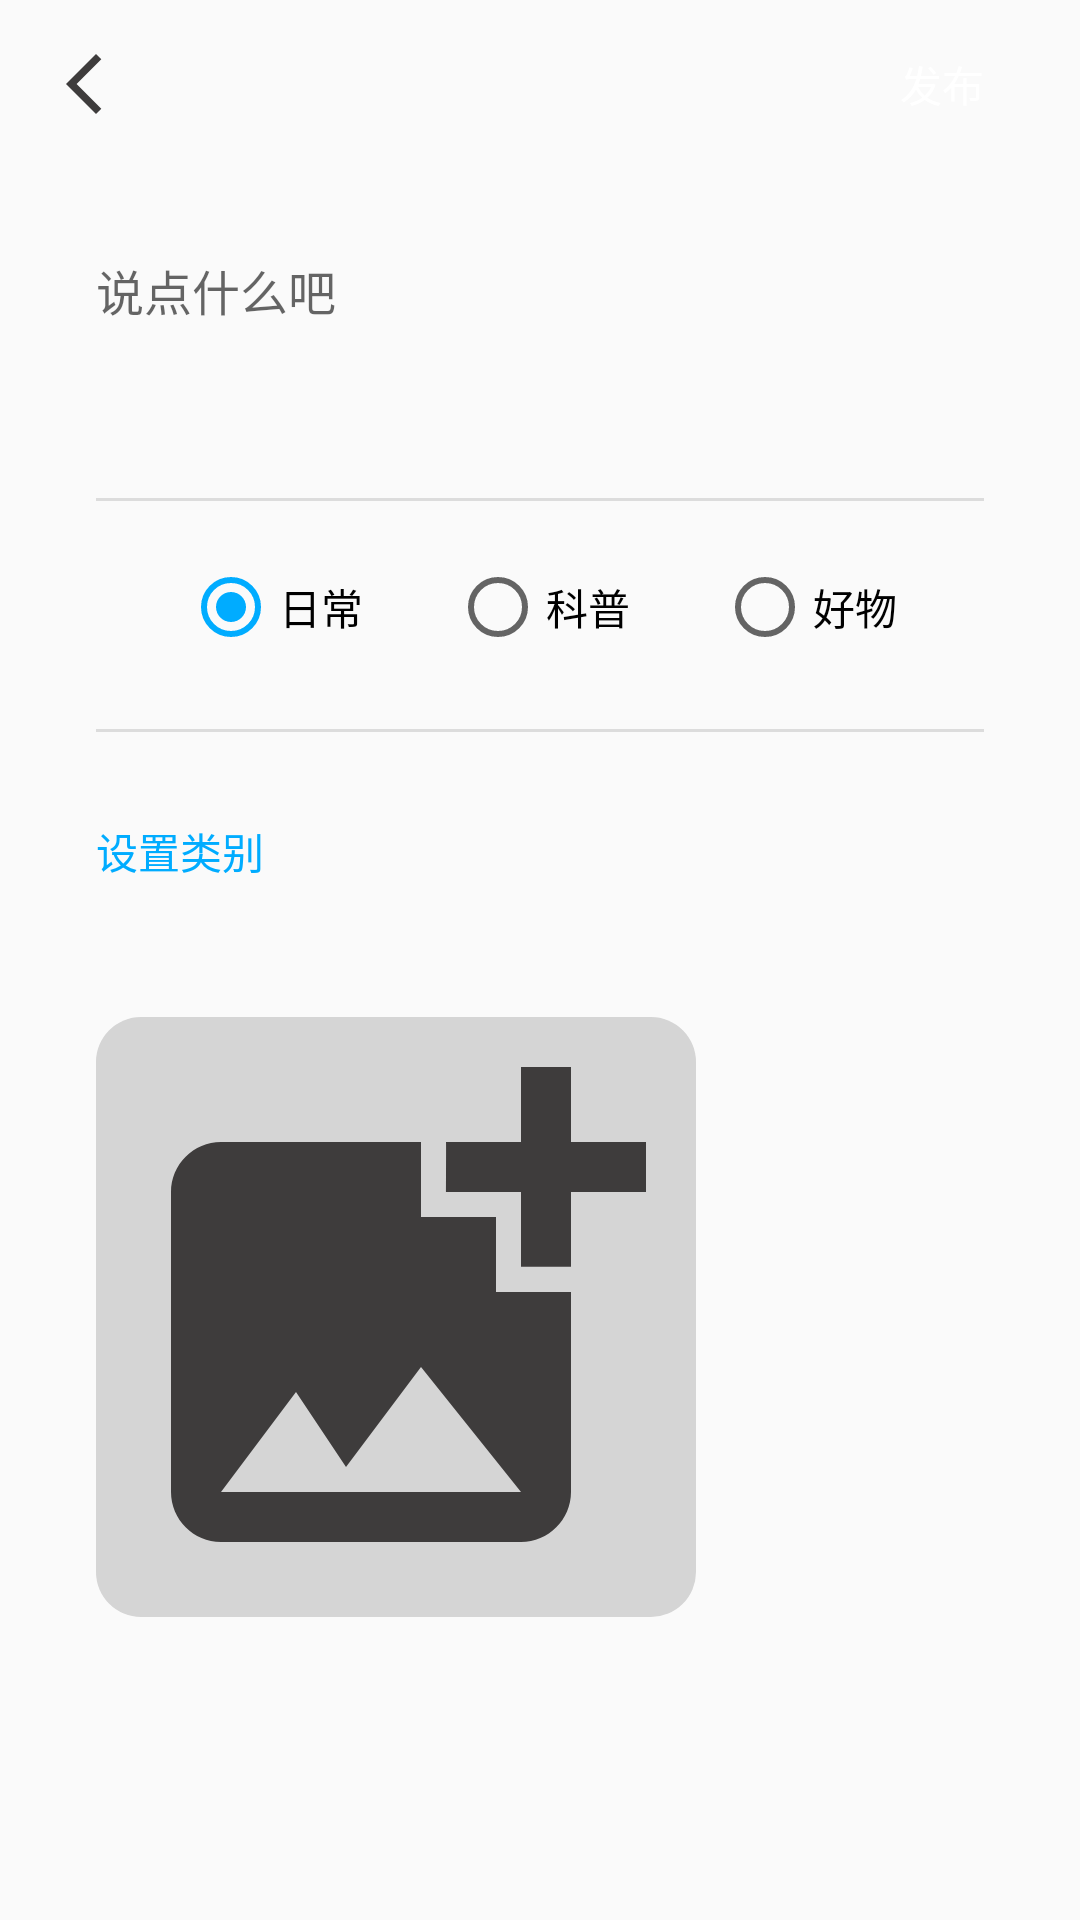

Locate icon controls on the screen. Image size 1080 x 1920, boxes as [x1=x1, y1=y1, x2=x2, y2=y2].
arrow back: [x1=66, y1=54, x2=101, y2=114]
